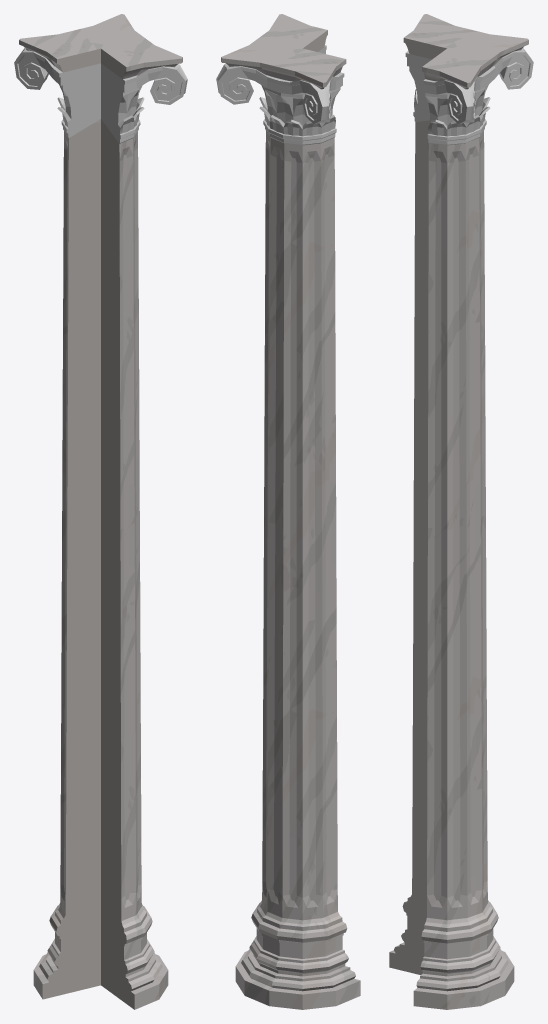
File: SM_Bld_Pillar_Large_04_Corner_01.fbx
3 views of the same model, side by side, from view 1: azimuth 30°, elevation 25°; view 2: azimuth 150°, elevation 25°; view 3: azimuth 330°, elevation 25° (orthographic).
Parts seen in each view (by area): view 1: SM_Bld_Pillar_Large_04_Corner_01; view 2: SM_Bld_Pillar_Large_04_Corner_01; view 3: SM_Bld_Pillar_Large_04_Corner_01.
Part boxes in pixels (left/top/right/bottom): SM_Bld_Pillar_Large_04_Corner_01: left=14, top=14, right=187, bottom=1009; SM_Bld_Pillar_Large_04_Corner_01: left=216, top=14, right=360, bottom=1009; SM_Bld_Pillar_Large_04_Corner_01: left=389, top=14, right=533, bottom=1009.
Size of the model in its own units: 78.08 by 600 by 78.08.
